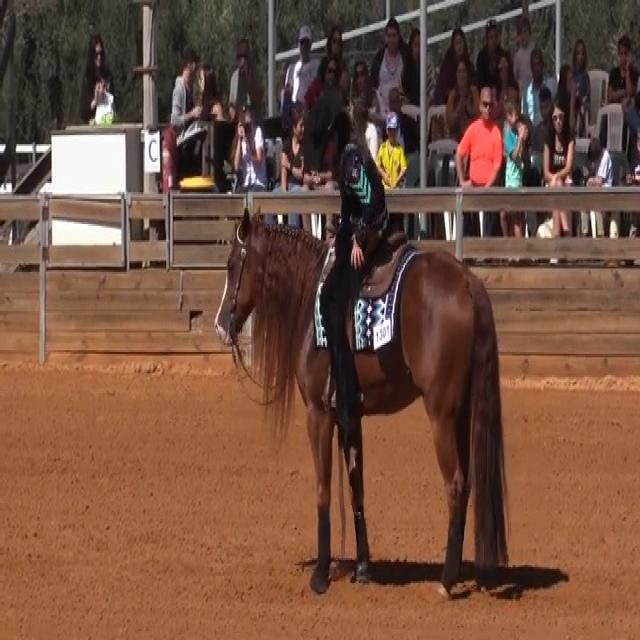horse: (212, 205, 512, 599)
